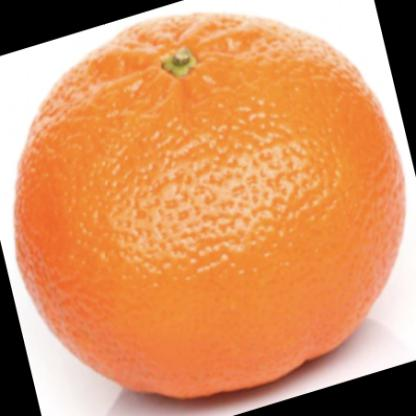orange: (8, 12, 404, 403)
